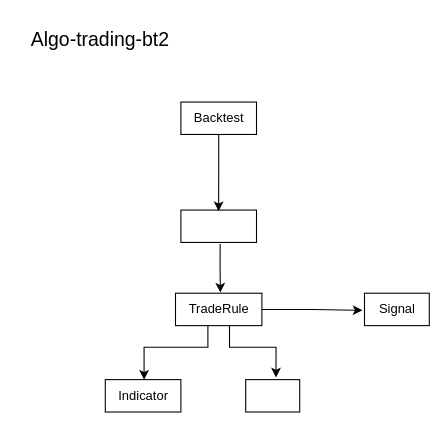
The diagram is 448 pixels wide and 431 high, and some of its shapes have lost their labels. Here are the shapes that lost their labels. From the top down, the centre of each, then its label:
At point (218, 225): "Scenario".
At point (272, 395): "Trend".
